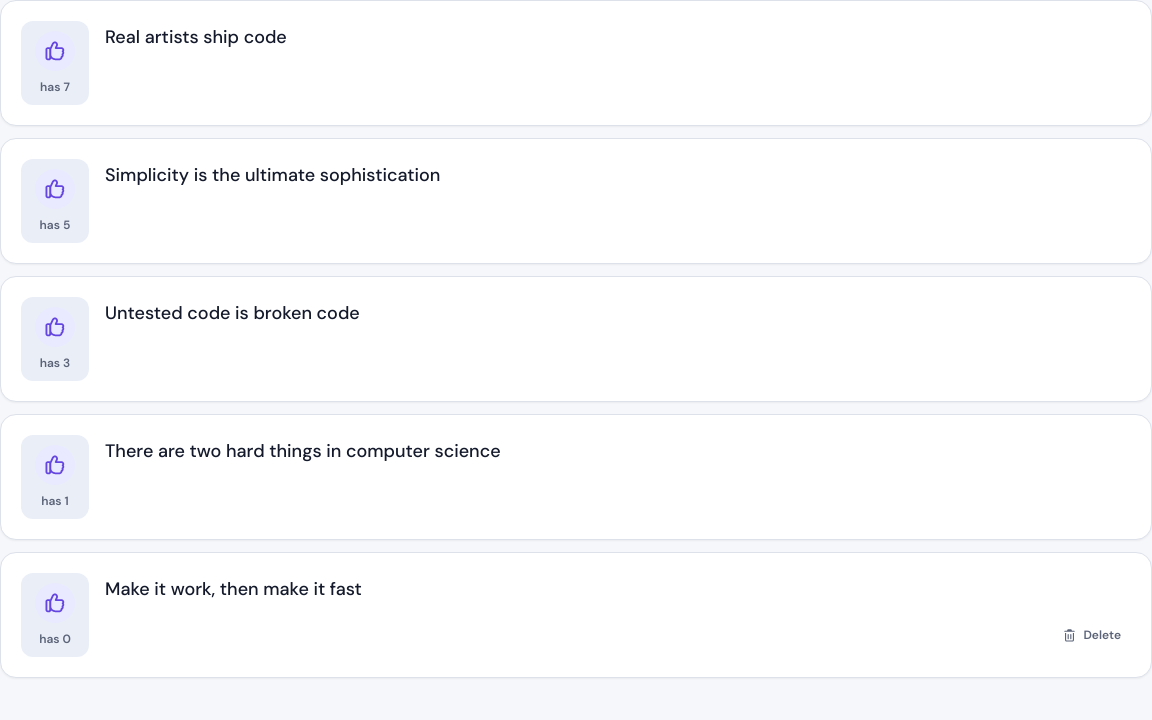
Test: AnecdoteList voting › clicking vote increases the number of votes shown for that anecdote by one
Expected: the text "has 3" is shown, [40, 355, 70, 371]
Click the button named "vote" next to "Untested code is broken code": {"x": 55, "y": 327} [35, 307, 75, 347]
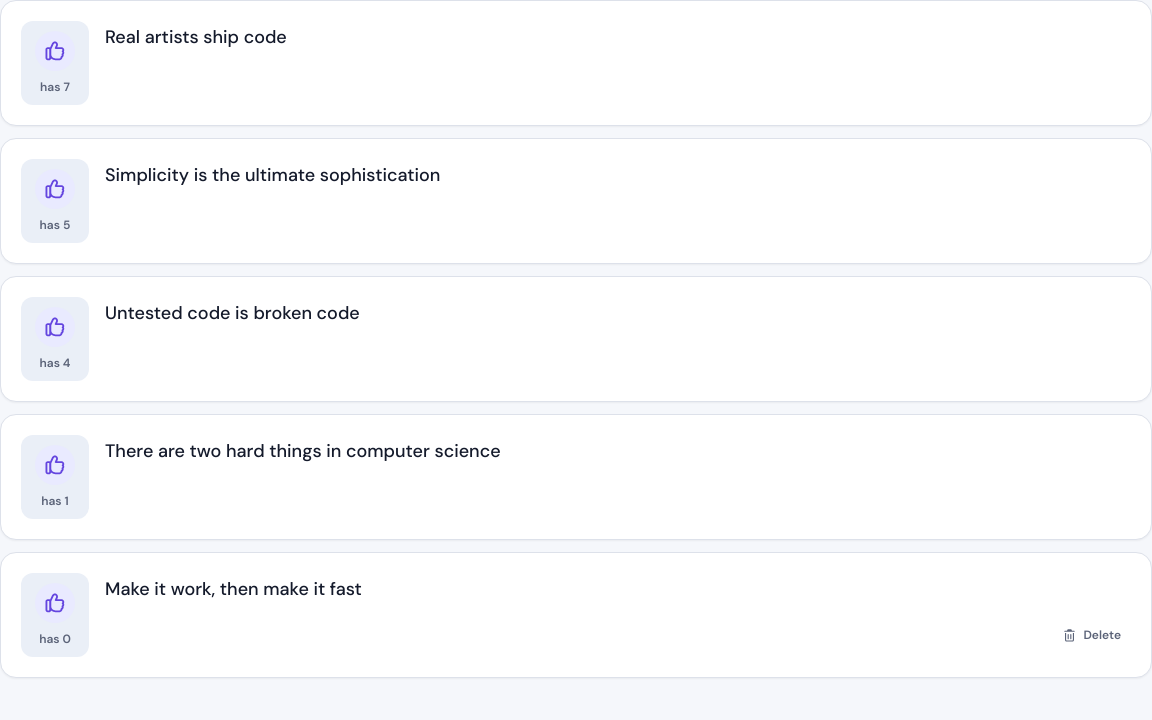
Expected: the text "has 7" is shown, [40, 79, 70, 95]
Expected: the text "has 4" is shown, [40, 355, 70, 371]
